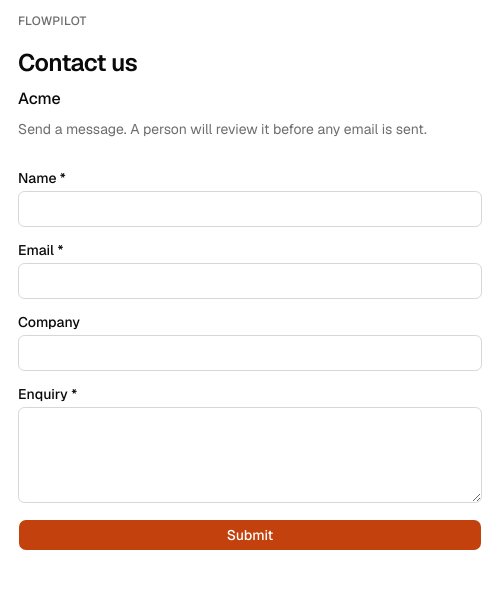
hosted website enquiry capture › shows a rate-limit alert
expect the heading "Contact us" is shown: met, box [18, 47, 137, 78]
Type "Ada Prospect" into the field labelled "Name *". click: x=250, y=209
box: [18, 191, 482, 227]
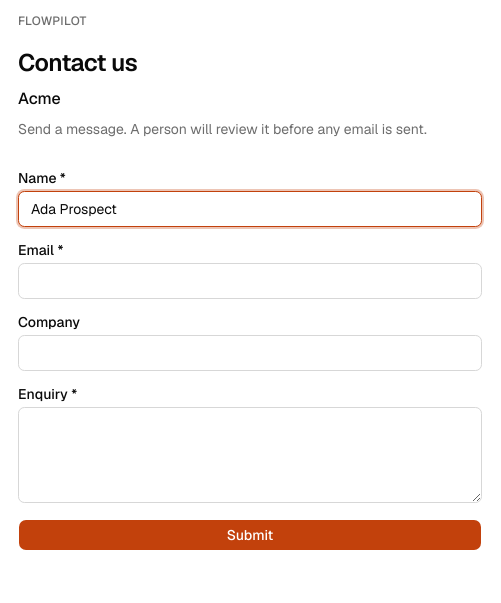
Type "ada@example.com" into the field labelled "Email *". click: x=250, y=281
box: [18, 263, 482, 299]
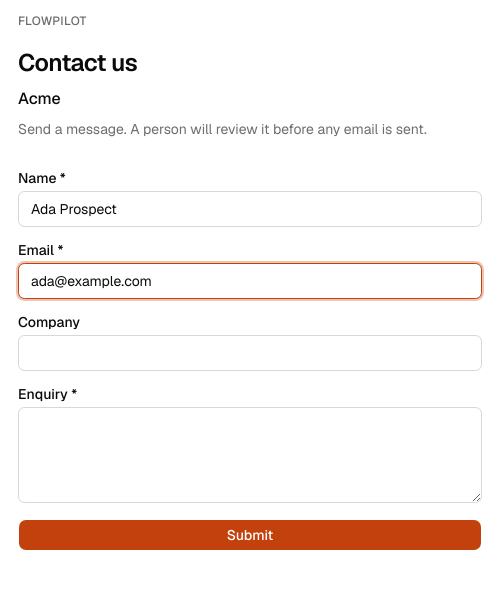
Type "Need a demo" into the text box labelled "Enquiry *". click: x=250, y=455
box: [18, 407, 482, 503]
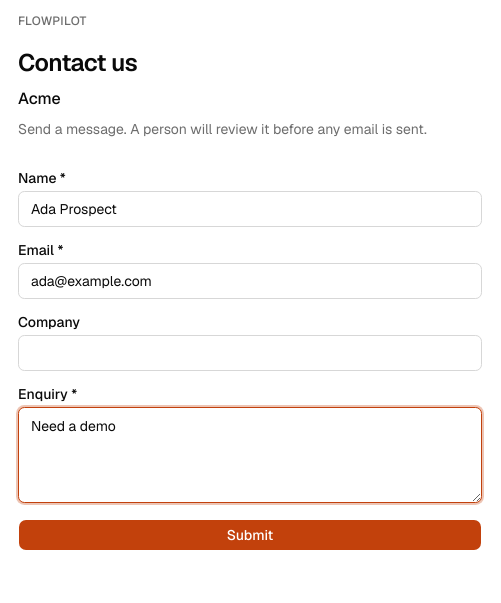
Click the button "Submit". click: x=250, y=535
box: [18, 519, 482, 551]
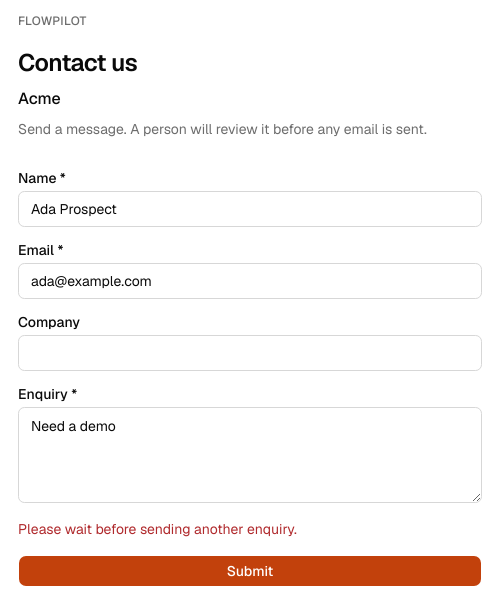
expect the message "Please wait before sending another enquiry." is shown: met, box [18, 520, 297, 538]
